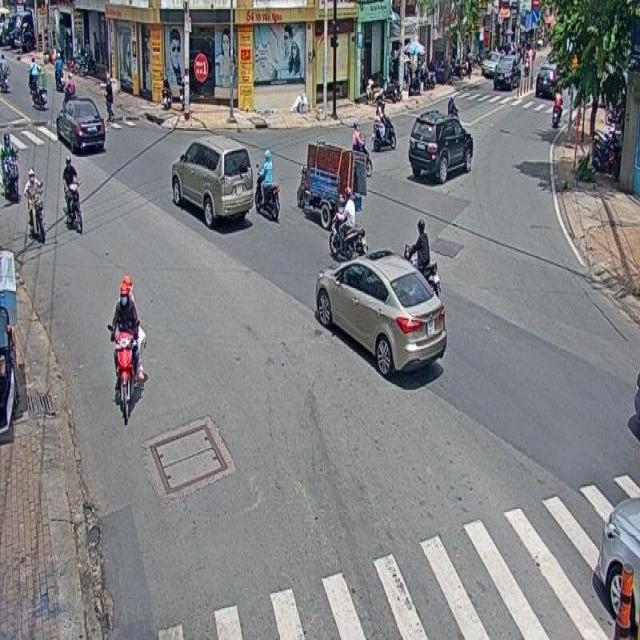car: (317, 251, 445, 387), (167, 134, 251, 230), (406, 109, 476, 184), (56, 94, 104, 154)
motorcycle: (110, 271, 146, 418), (403, 215, 442, 303), (327, 184, 369, 260), (254, 145, 281, 224), (60, 154, 83, 236), (23, 164, 46, 246), (0, 128, 20, 206), (372, 96, 396, 152), (350, 119, 372, 180)
